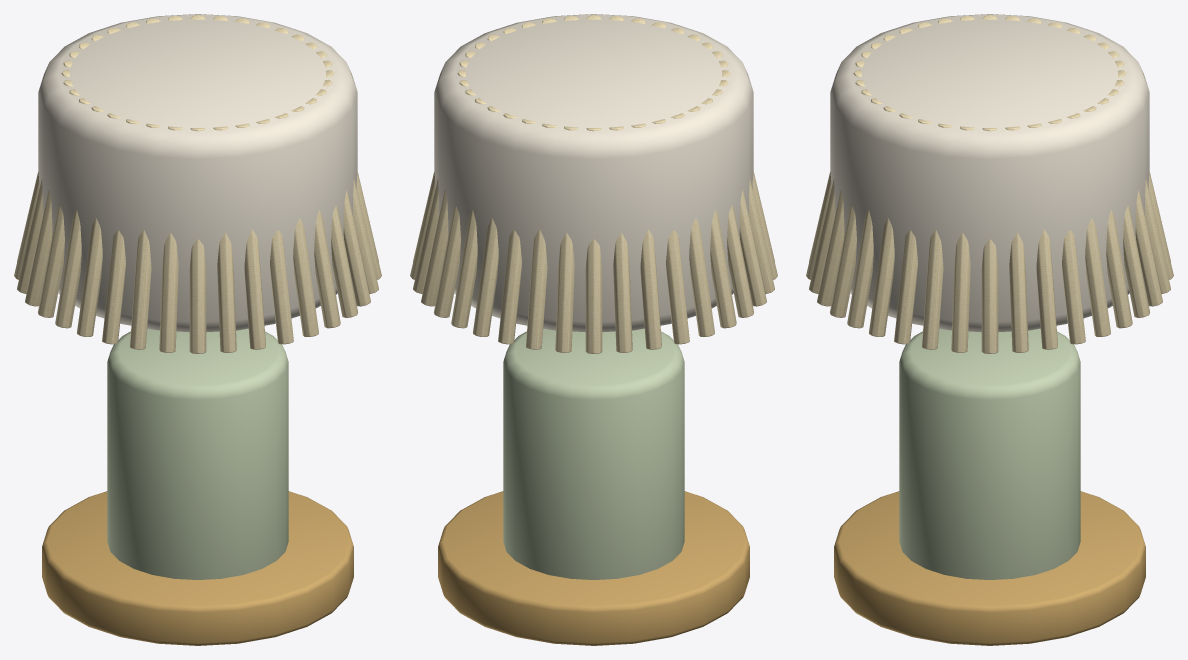
File: pleated-table-lamp.glb
3 renders of one model, left to right at view 1: azimuth 30°, elevation 25°; view 2: azimuth 150°, elevation 25°; view 3: azimuth 270°, elevation 25°, orthographic.
Visible parts, largest first — view 1: pleated-table-lamp; view 2: pleated-table-lamp; view 3: pleated-table-lamp.
Part boxes in pixels (x1,y1,x2,y2): pleated-table-lamp: (14, 14, 381, 645); pleated-table-lamp: (410, 14, 777, 645); pleated-table-lamp: (806, 14, 1173, 645).
Bounding box in the file's own units: 0.34 × 0.52 × 0.34.
4 materials, 1 textured.
